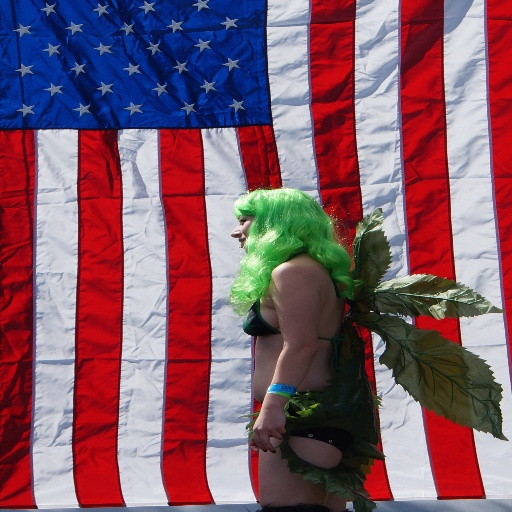hand: (250, 410, 290, 454)
